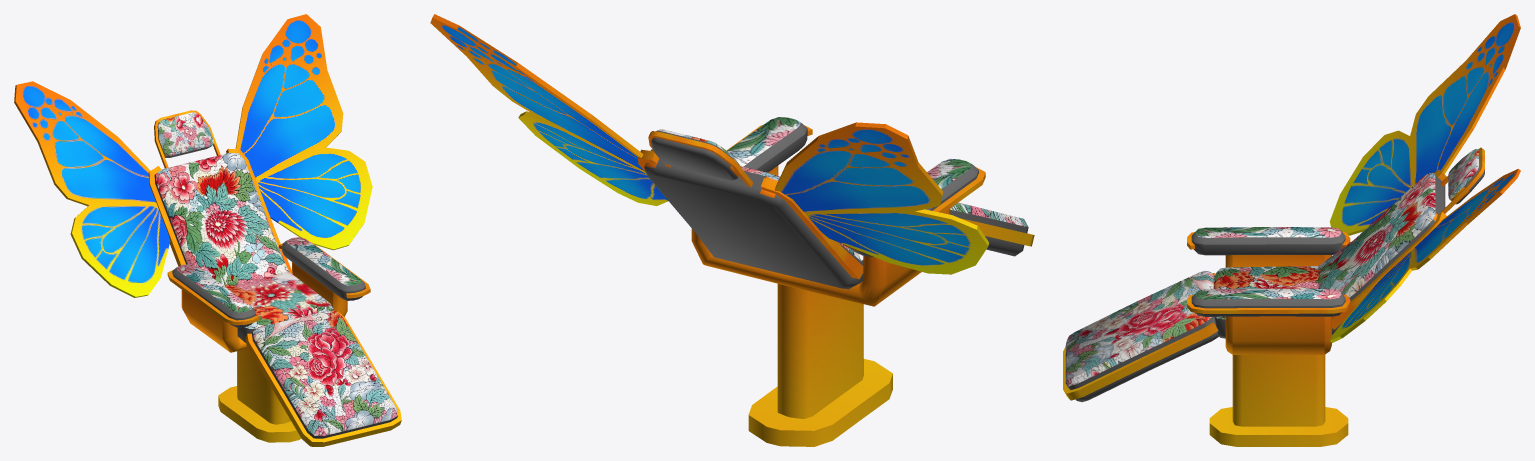
File: TatSeat03.fbx
The picture shows the model from 3 angles, left to right: view 1: azimuth 30°, elevation 25°; view 2: azimuth 150°, elevation 25°; view 3: azimuth 270°, elevation 25°; orthographic projection. The views are drawn at different scales.
Visible parts, largest first — view 1: Tatseat03; view 2: Tatseat03; view 3: Tatseat03.
Boxes of the visible parts, x1,y1,x2,y2 form: Tatseat03: [14, 14, 401, 446]; Tatseat03: [430, 14, 1034, 446]; Tatseat03: [1063, 14, 1520, 446].
Bounding box in the file's own units: 188 × 173 × 213.
Materials: 1 (1 with a texture image).
